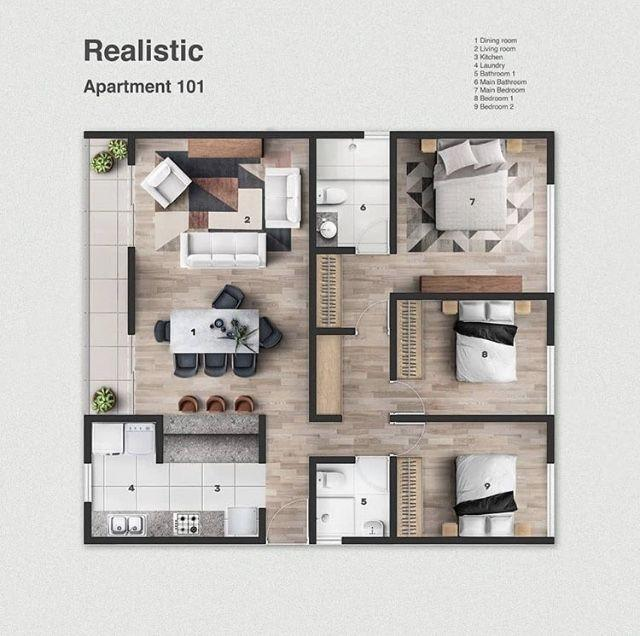room: (88, 133, 310, 540), (312, 417, 551, 539), (394, 137, 551, 297), (391, 295, 551, 418), (313, 134, 391, 250)
